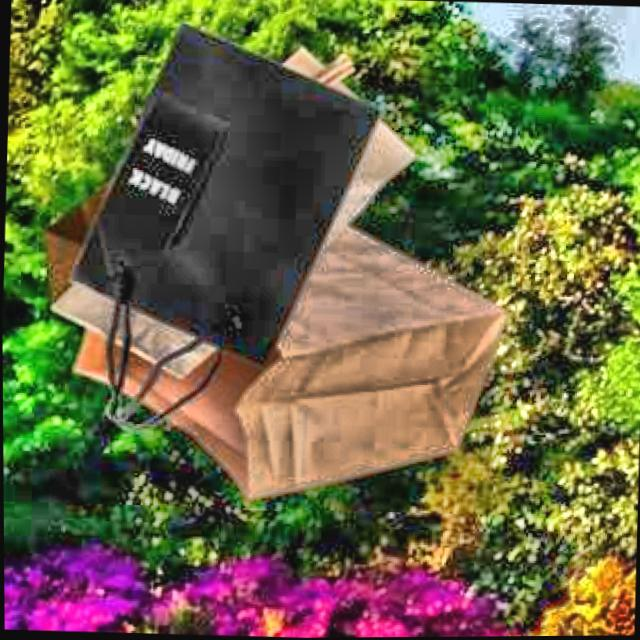Paper-bag: (35, 187, 526, 506), (42, 11, 383, 438)
